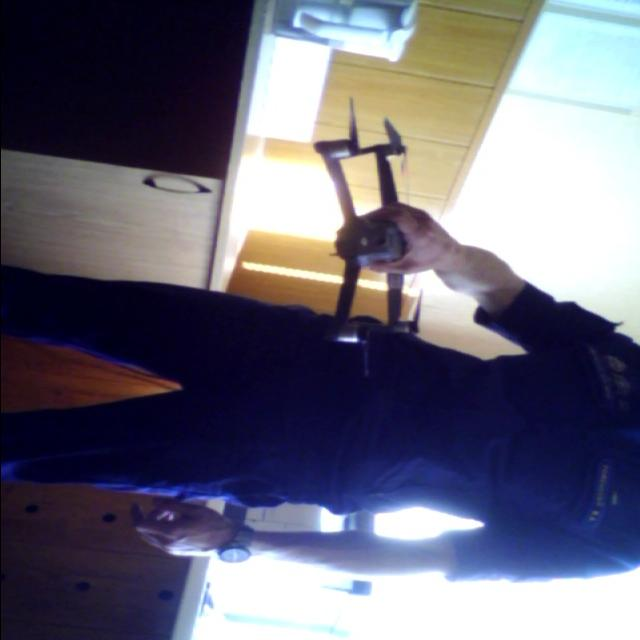drone: (288, 116, 458, 390)
